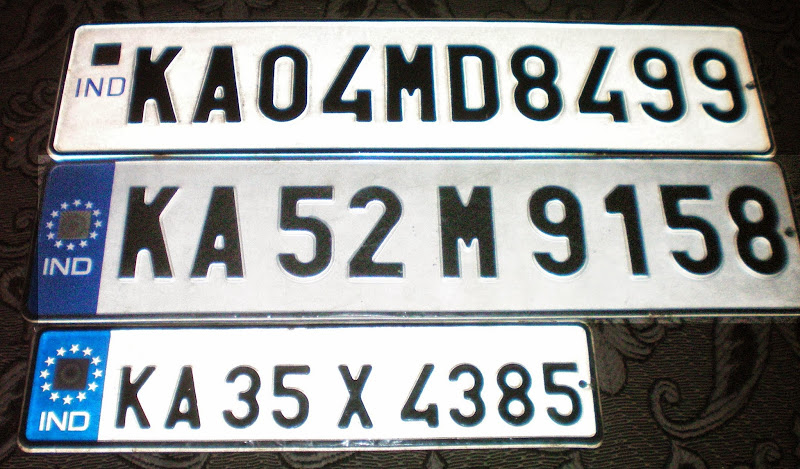number_plate: (24, 155, 799, 320), (56, 19, 776, 158), (21, 324, 604, 449)
